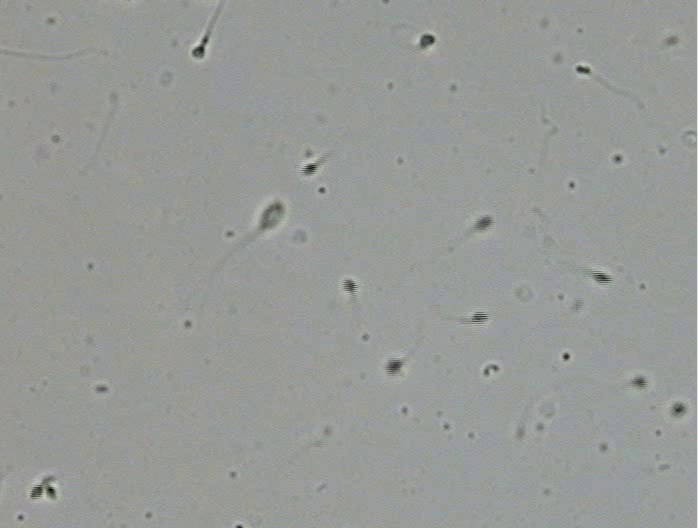S: (259, 201, 284, 230), (385, 358, 403, 375), (470, 311, 489, 325), (474, 216, 493, 230), (592, 271, 612, 284), (342, 278, 357, 294), (420, 33, 435, 49), (300, 163, 317, 176), (29, 484, 43, 499), (631, 376, 646, 389), (45, 485, 57, 501), (672, 403, 686, 416), (192, 46, 205, 59), (576, 64, 591, 75)
